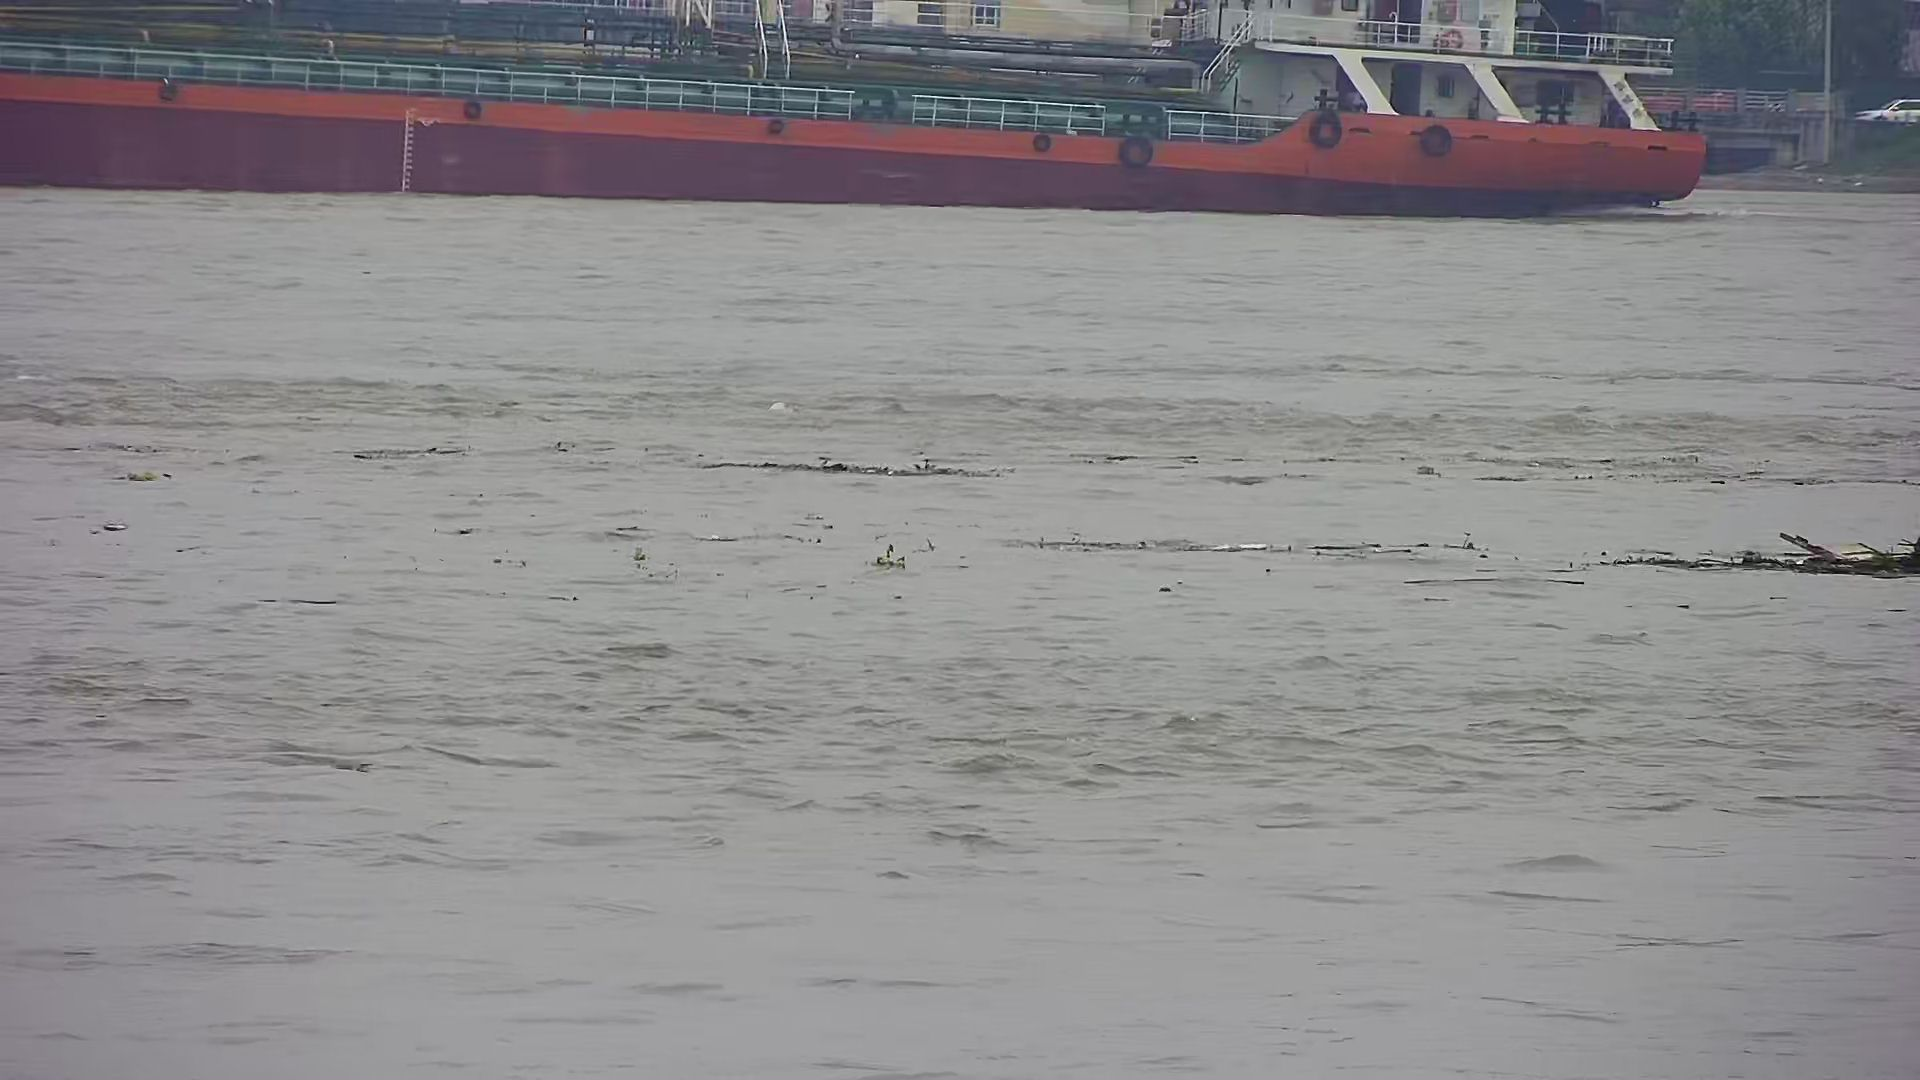grass: (1572, 477, 1920, 585)
ship: (15, 22, 1706, 215)
